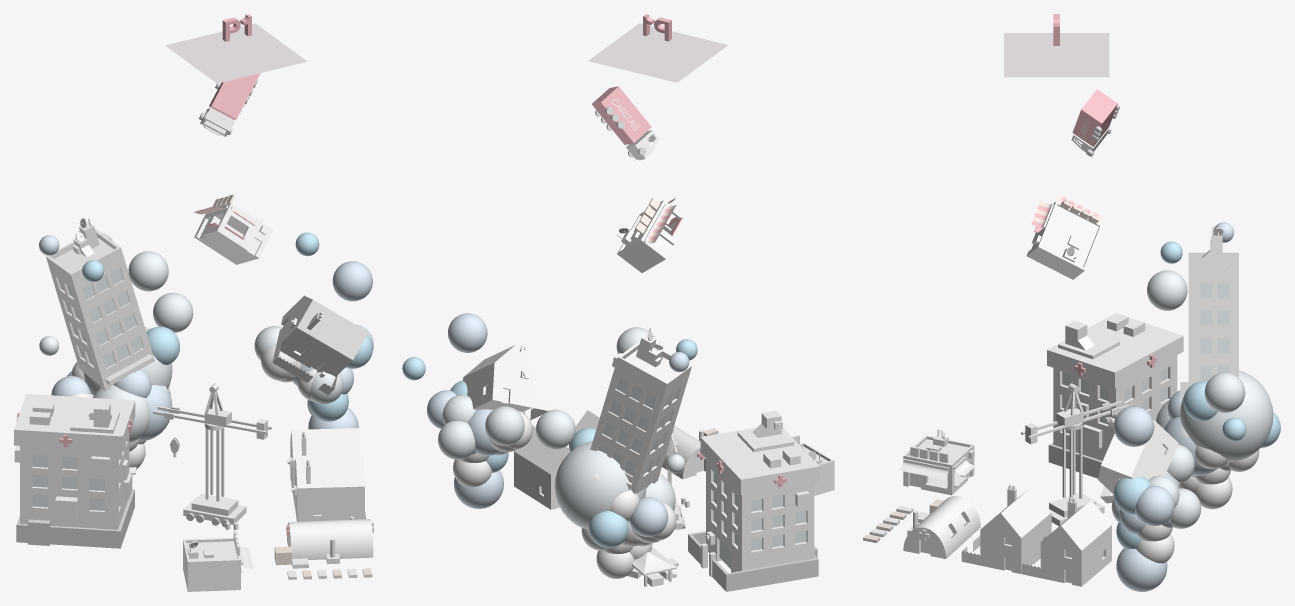
Rendered from endcity.gltf.
3 renders of one model, left to right at view 1: azimuth 30°, elevation 25°; view 2: azimuth 150°, elevation 25°; view 3: azimuth 270°, elevation 25°, orthographic. The views are drawn at different scales.
Visible parts, largest first — view 1: light blue 3, light blue, light blue 2, Red, dark grey_2, REAL RED, Object_282, orange_2, Object_133; view 2: light blue 3, light blue, light blue 2, Red, dark grey_2, REAL RED, Object_333, orange_2, Object_318; view 3: light blue 3, light blue, light blue 2, Red, REAL RED, Object_282, dark grey_2, orange_2, Object_333.
Boxes of the visible parts, x1,y1,x2,y2 form: light blue 3: [14, 108, 373, 591]; light blue: [32, 268, 343, 510]; light blue 2: [39, 235, 373, 441]; Red: [165, 23, 307, 83]; dark grey_2: [16, 81, 257, 548]; REAL RED: [16, 14, 289, 536]; Object_282: [128, 251, 168, 291]; orange_2: [194, 194, 372, 579]; Object_133: [261, 345, 297, 380]; light blue 3: [402, 130, 834, 586]; light blue: [438, 377, 806, 568]; light blue 2: [427, 313, 689, 536]; Red: [588, 23, 728, 82]; dark grey_2: [595, 107, 818, 591]; REAL RED: [592, 14, 803, 487]; Object_333: [596, 550, 634, 578]; orange_2: [635, 198, 718, 436]; Object_318: [609, 490, 639, 521]; light blue 3: [869, 128, 1280, 586]; light blue: [1062, 282, 1273, 528]; light blue 2: [1113, 222, 1233, 591]; Red: [1004, 33, 1109, 77]; REAL RED: [1031, 14, 1156, 375]; Object_282: [1147, 270, 1187, 310]; dark grey_2: [1048, 104, 1119, 513]; orange_2: [863, 195, 1102, 542]; Object_333: [1193, 477, 1232, 509].
Size of the model in its own units: 0.5659 by 0.7202 by 0.5405.
